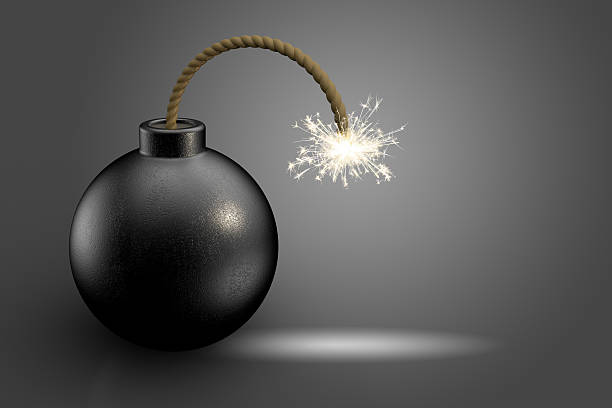e1: (59, 68, 285, 355)
